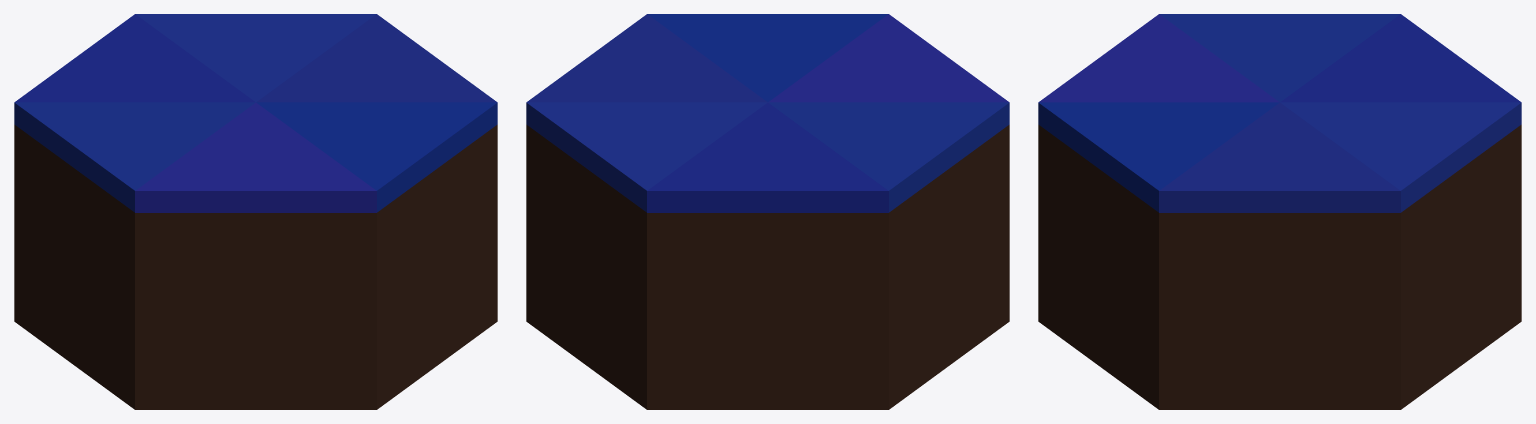
The model's file is sea.glb.
3 renders of one model, left to right at view 1: azimuth 30°, elevation 25°; view 2: azimuth 150°, elevation 25°; view 3: azimuth 270°, elevation 25°, orthographic.
Visible parts, largest first — view 1: Cylinder; view 2: Cylinder; view 3: Cylinder.
Part boxes in pixels (x1=…): Cylinder: x1=14, y1=14, x2=497, y2=409; Cylinder: x1=526, y1=14, x2=1009, y2=409; Cylinder: x1=1038, y1=14, x2=1521, y2=409.
Bounding box in the file's own units: 1.73 × 1 × 2.
